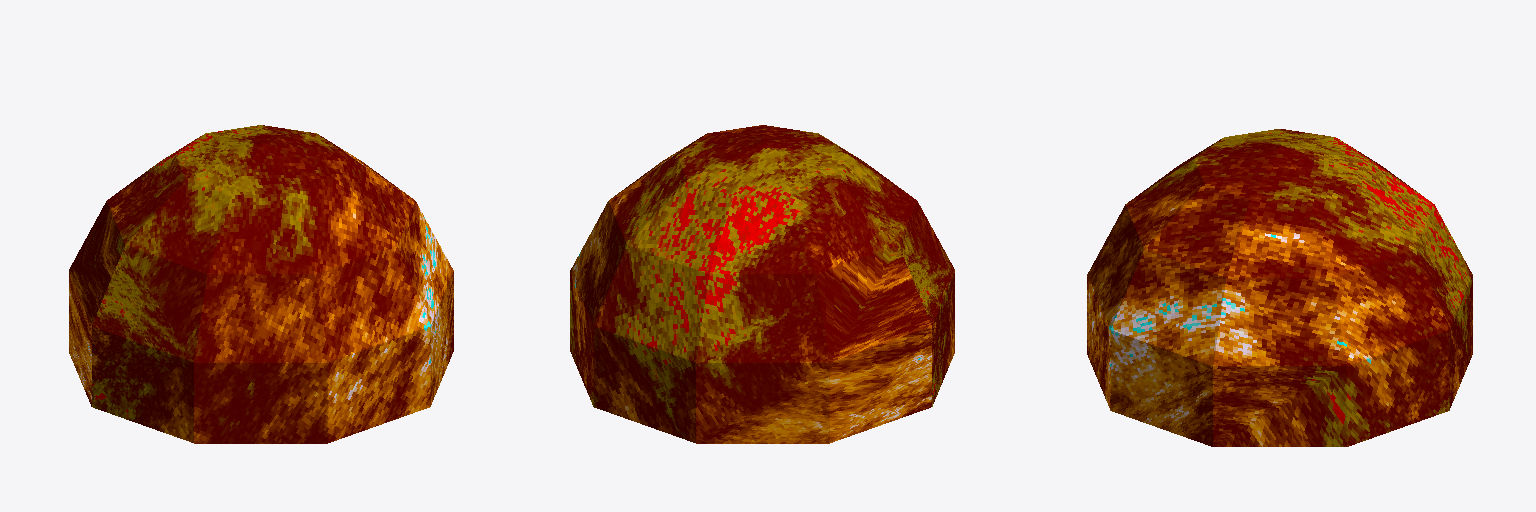
3 renders of one model, left to right at view 1: azimuth 30°, elevation 25°; view 2: azimuth 150°, elevation 25°; view 3: azimuth 270°, elevation 25°, orthographic.
Parts seen in each view (by area): view 1: Sphere; view 2: Sphere; view 3: Sphere.
Boxes of the visible parts, <box> form: Sphere: <box>69,125,453,443</box>; Sphere: <box>570,125,954,443</box>; Sphere: <box>1087,129,1472,446</box>.
Size of the model in its own units: 1.89 by 1.22 by 1.92.
Materials: 1 (1 with a texture image).